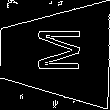M_W: (28, 30, 81, 78)
